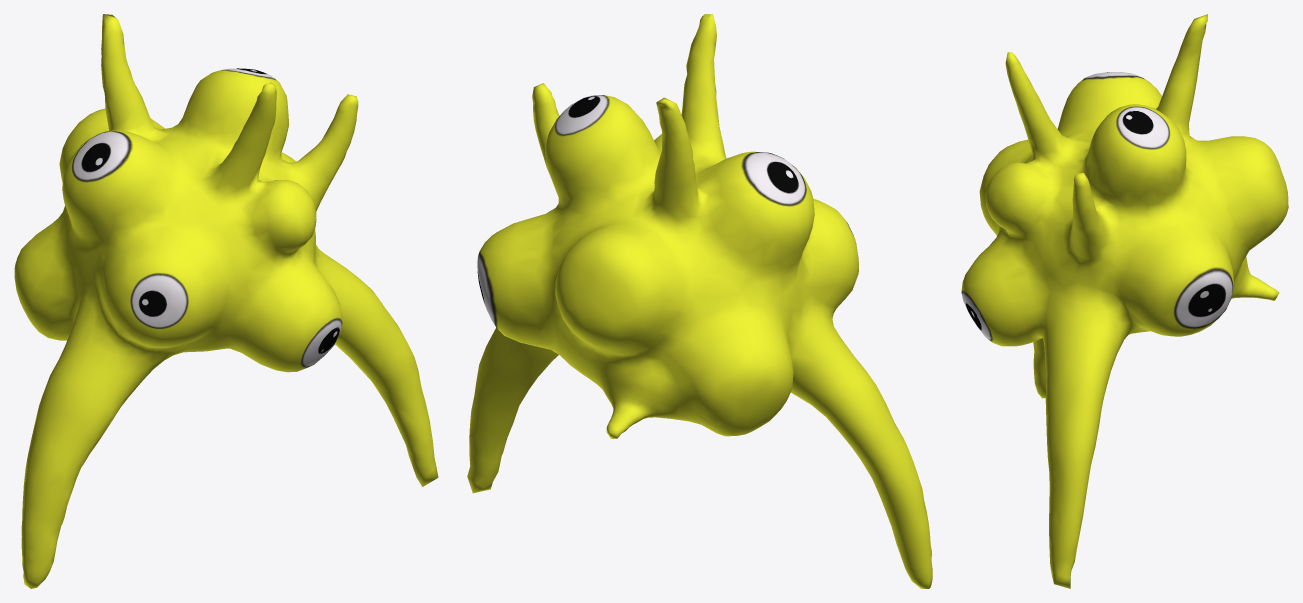
3 renders of one model, left to right at view 1: azimuth 30°, elevation 25°; view 2: azimuth 150°, elevation 25°; view 3: azimuth 270°, elevation 25°, orthographic. The views are drawn at different scales.
Visible parts, largest first — view 1: メタボール.028; view 2: メタボール.028; view 3: メタボール.028.
Boxes of the visible parts, bbox=[...] form: メタボール.028: bbox=[14, 14, 438, 588]; メタボール.028: bbox=[467, 14, 932, 588]; メタボール.028: bbox=[961, 14, 1288, 588].
Size of the model in its own units: 4.31 by 4.68 by 3.03.
Materials: 1 (1 with a texture image).
